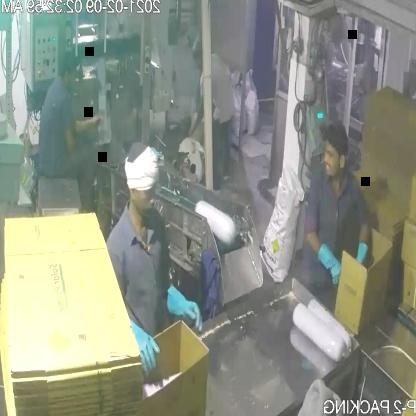glove: (119, 310, 163, 381), (159, 284, 208, 332), (310, 240, 350, 290), (347, 233, 376, 284)
no_glove: (70, 93, 108, 145)
